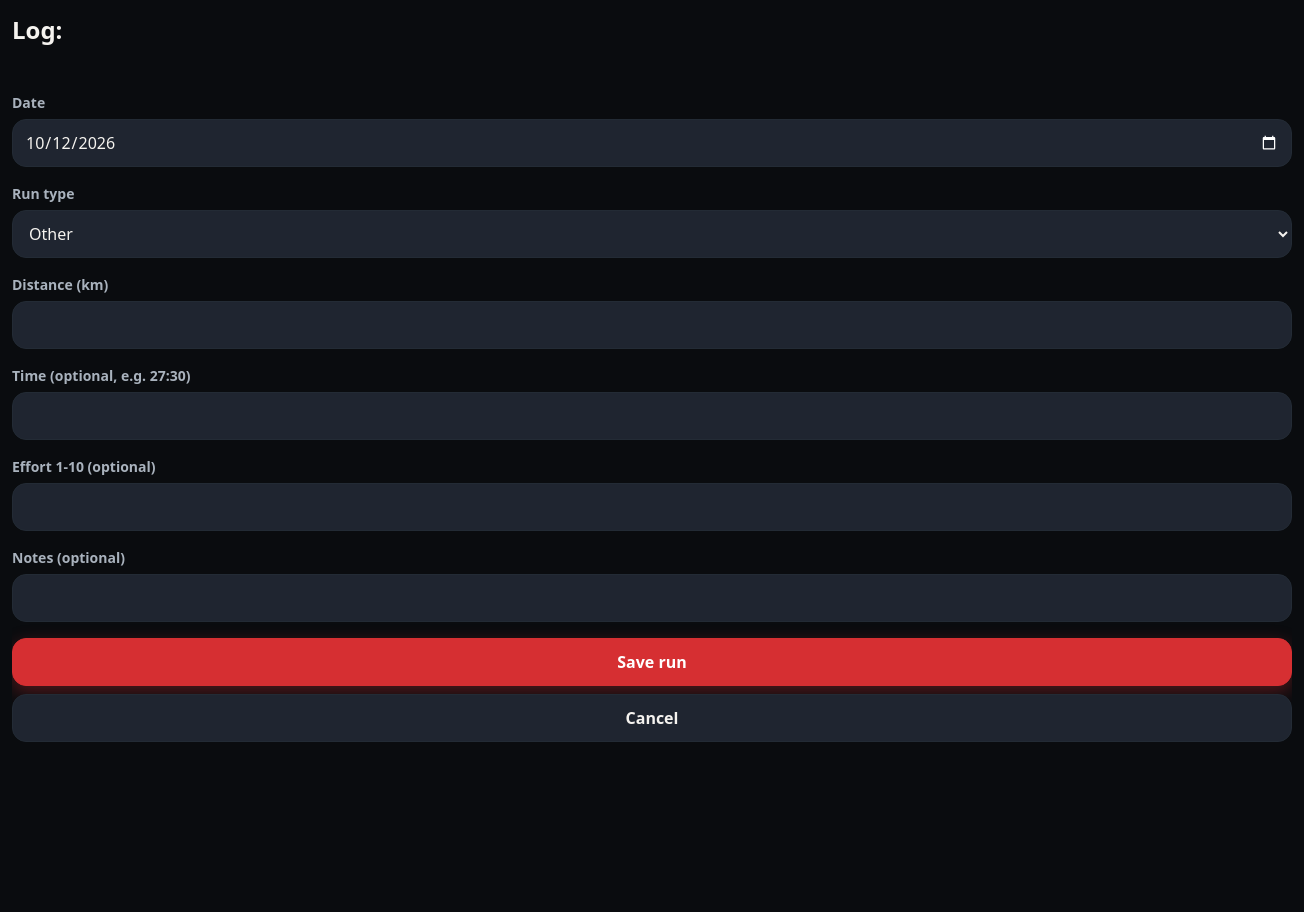
Scenario: run flow › rejects an invalid distance and saves nothing
Type "0" into the field labelled "Distance (km)". click: (652, 325)
box: x1=12 y1=301 x2=1292 y2=349
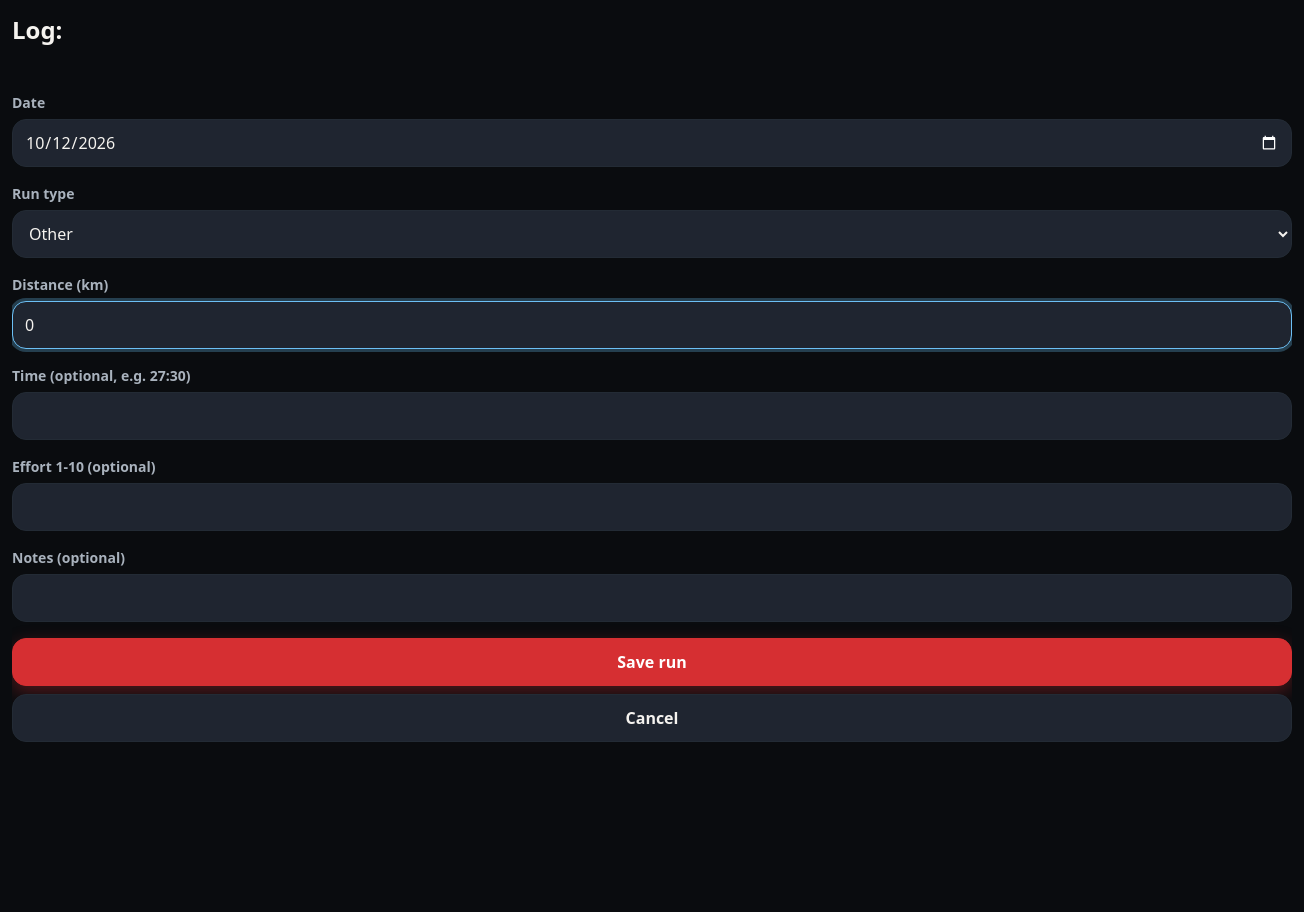
Click the button "Save run". click: (652, 662)
box: x1=12 y1=638 x2=1292 y2=686
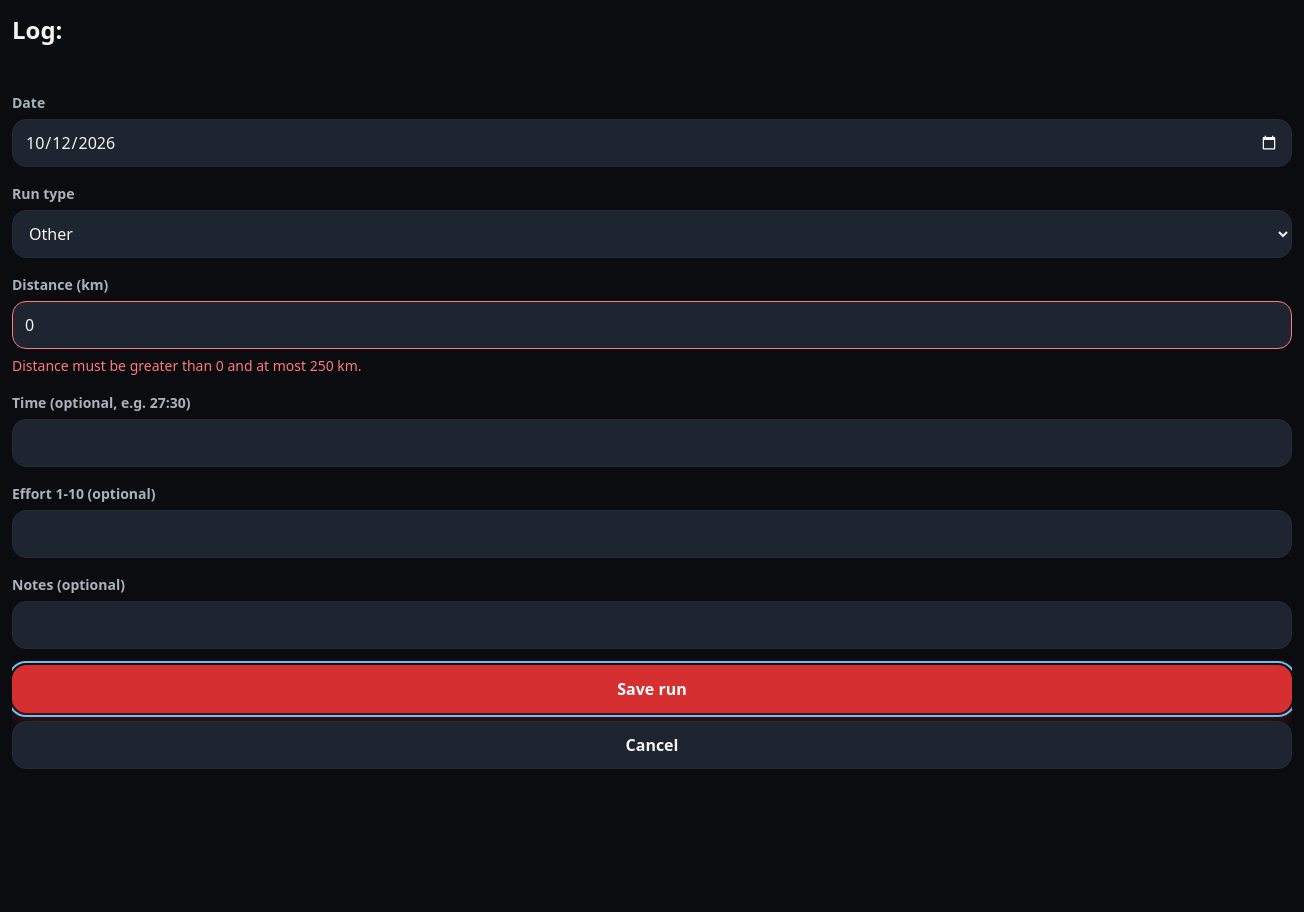
Result: the message shows "greater than 0" at x1=12 y1=356 x2=362 y2=375
